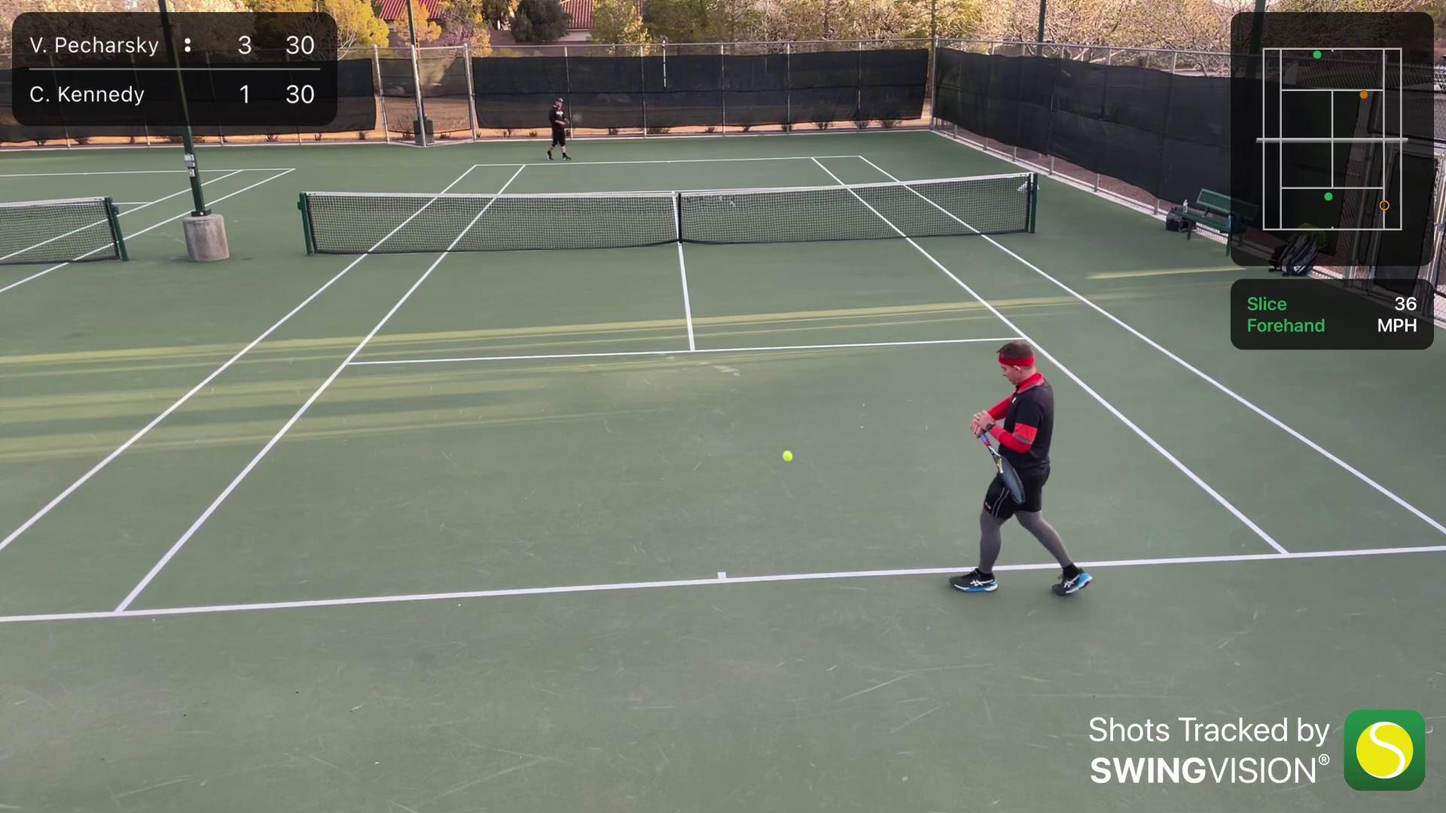ball: (781, 450, 796, 465)
